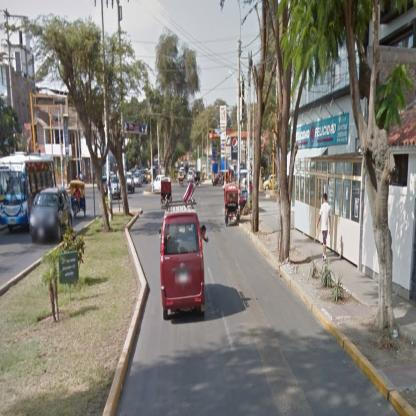Peaton: (318, 194, 332, 264)
Vehiculo: (160, 196, 208, 321), (1, 154, 58, 234), (32, 187, 74, 245), (225, 184, 241, 228), (70, 180, 87, 221)
